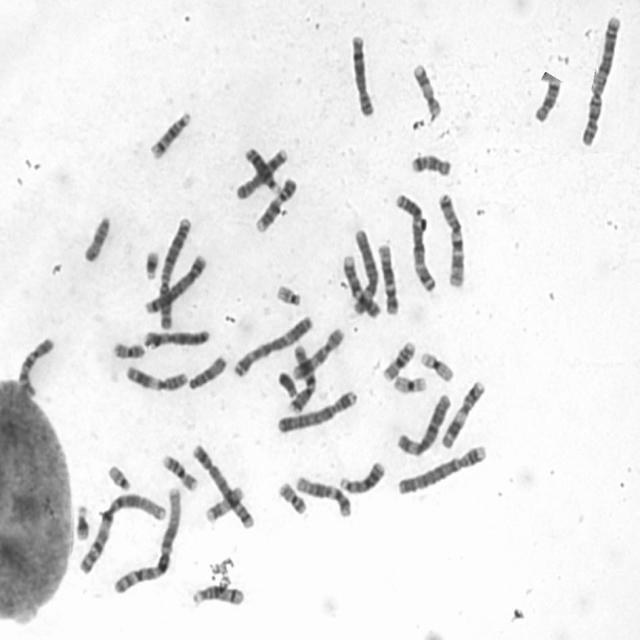A1: (112, 485, 182, 595), (78, 492, 166, 577)
A2: (580, 12, 620, 148), (157, 215, 191, 330)
A3: (232, 316, 316, 378), (393, 190, 439, 292)
B4: (397, 444, 488, 496), (275, 389, 359, 438)
B5: (191, 443, 256, 531), (144, 255, 207, 315)
C10: (290, 326, 346, 382), (18, 336, 56, 398)
C11: (440, 378, 486, 449), (125, 366, 189, 394)
C12: (294, 475, 355, 518), (376, 244, 401, 317)
C6: (396, 393, 451, 457), (351, 227, 380, 316)
C7: (435, 194, 466, 288), (288, 344, 316, 416)
C8: (233, 147, 290, 200), (349, 34, 376, 120)
C9: (253, 178, 300, 234), (341, 254, 382, 318)
D13: (338, 460, 388, 496), (244, 146, 280, 195)
D14: (146, 111, 194, 161), (188, 583, 248, 610)
D15: (187, 354, 227, 392), (82, 214, 111, 264)
E16: (381, 339, 416, 382), (161, 455, 199, 491)
E17: (406, 62, 443, 118), (205, 485, 245, 523)
E18: (530, 81, 562, 125), (408, 152, 454, 178)
F19: (420, 351, 454, 382), (393, 373, 428, 395)
F20: (279, 482, 308, 516), (110, 341, 145, 360)
G21: (72, 503, 91, 543), (145, 248, 160, 282)
G22: (273, 282, 305, 308), (109, 465, 132, 492)
X: (143, 328, 213, 351)
Y: (278, 369, 299, 398)
